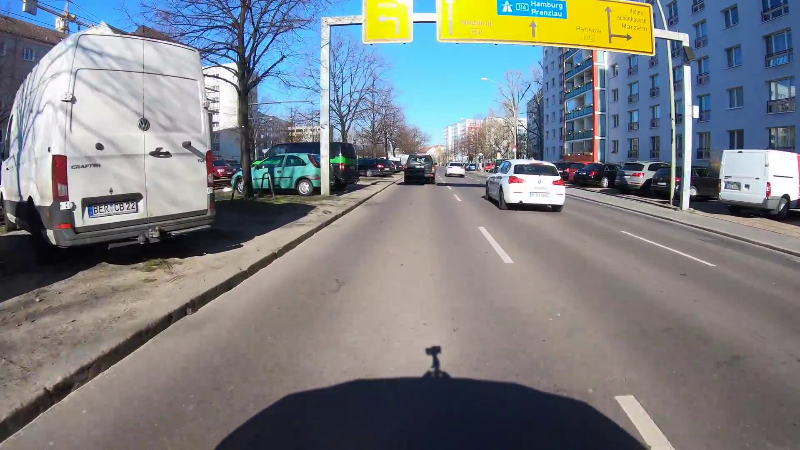Plate: (83, 197, 140, 215)
